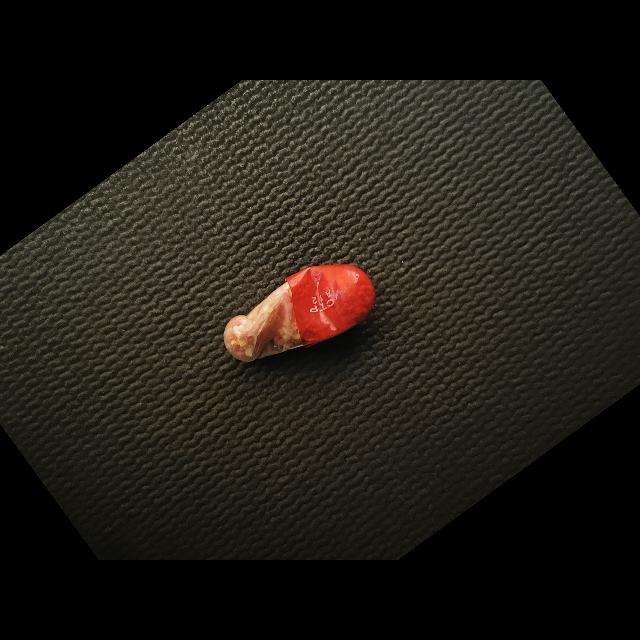Defective Capsule: (224, 264, 376, 362)
